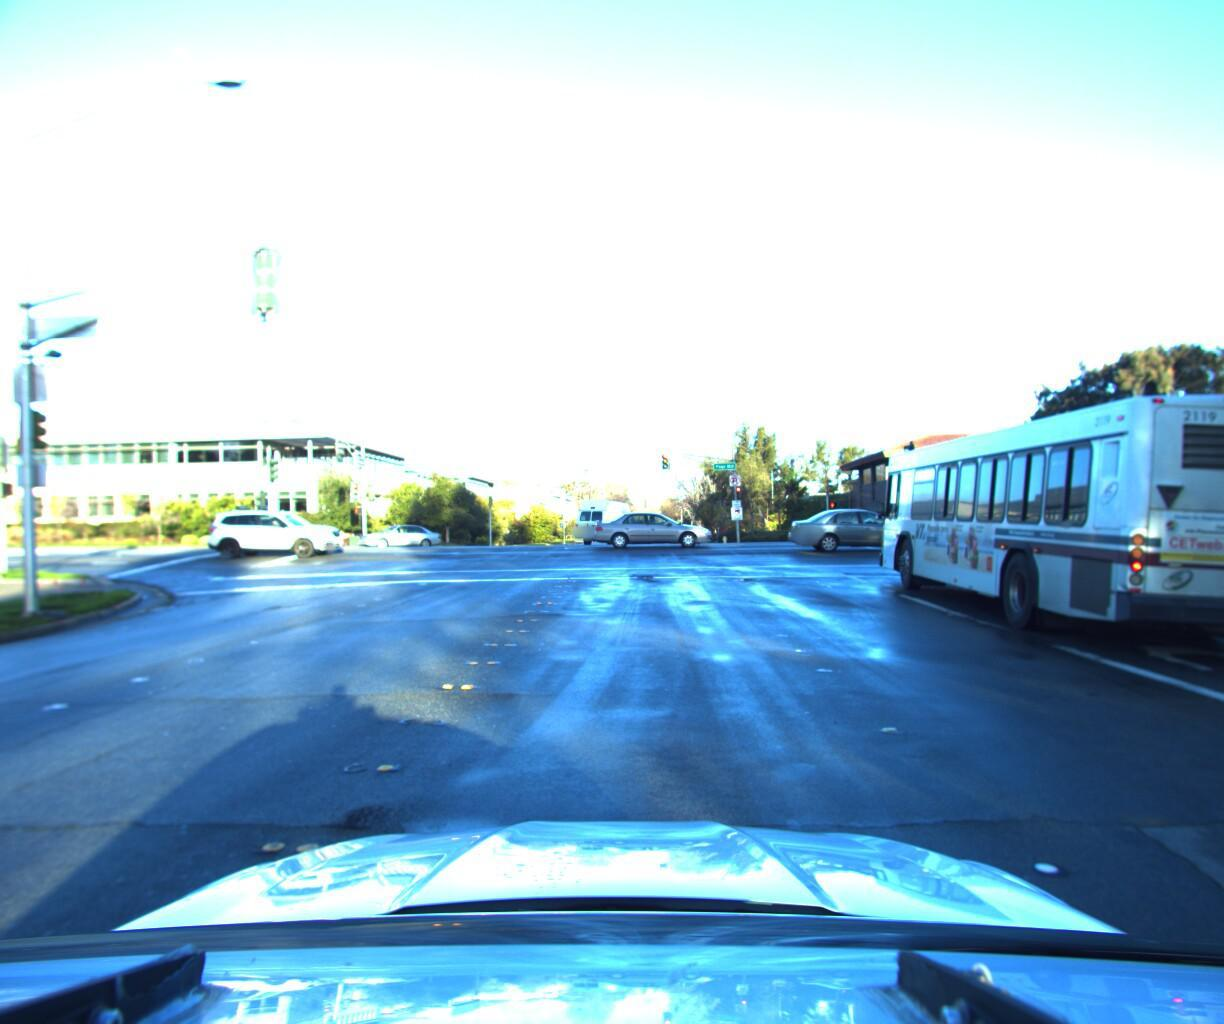bus: (865, 334, 1224, 668)
car: (210, 503, 356, 561), (774, 497, 920, 547), (591, 499, 716, 548), (568, 497, 649, 545), (355, 521, 446, 549)
